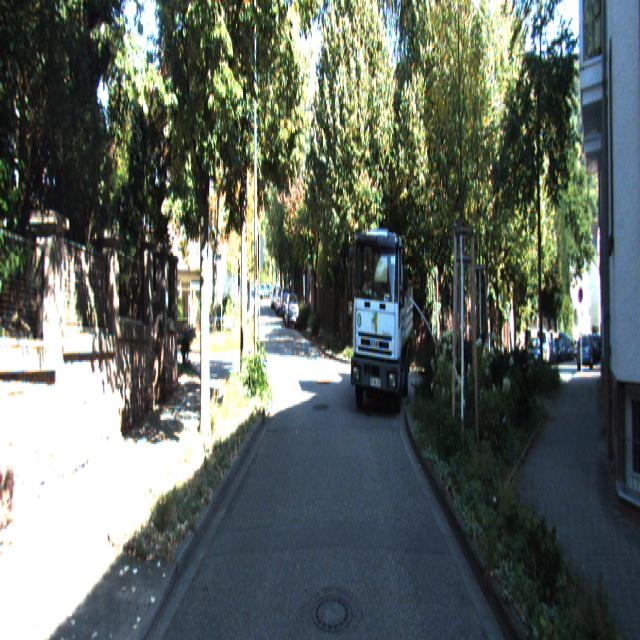Car: (350, 220, 415, 423), (577, 333, 593, 370), (285, 293, 299, 333)
